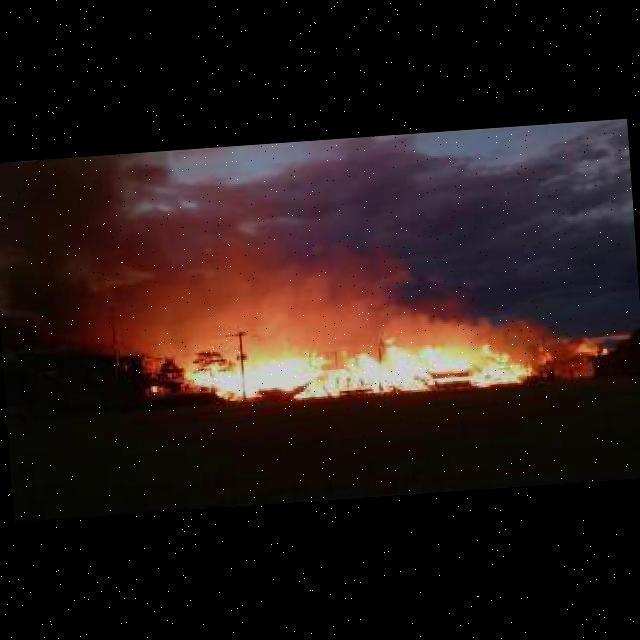Fire: (180, 323, 537, 408), (570, 337, 607, 359), (537, 344, 556, 363), (152, 384, 159, 392)
Smoke: (105, 232, 472, 369)
